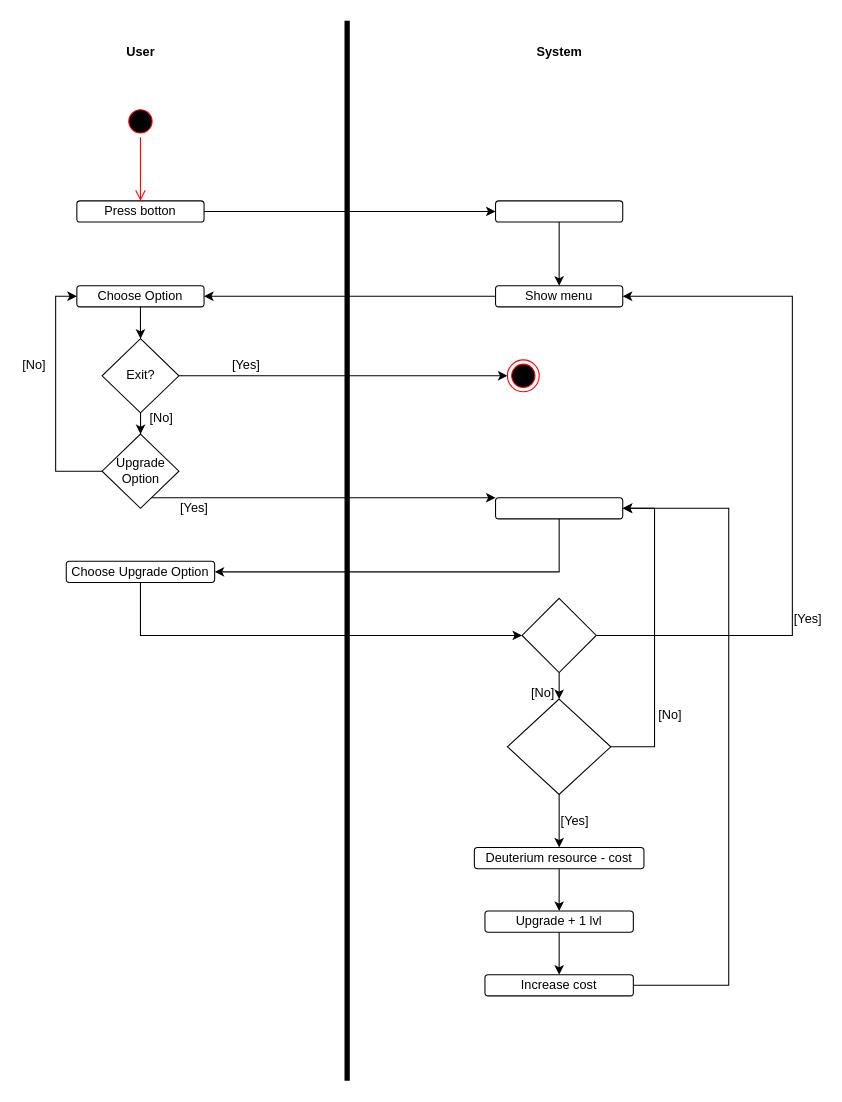
This 842x1102 diagram has some shape labels left out. The shapes that lost their labels are listed below. From the top down, each one's centre as x and y in pixels, then its label:
At point (558, 211): "Execute program".
At point (558, 508): "Show Upgrade menu".
At point (558, 635): "Go back?".
At point (558, 746): "Have cost to upgrade".
